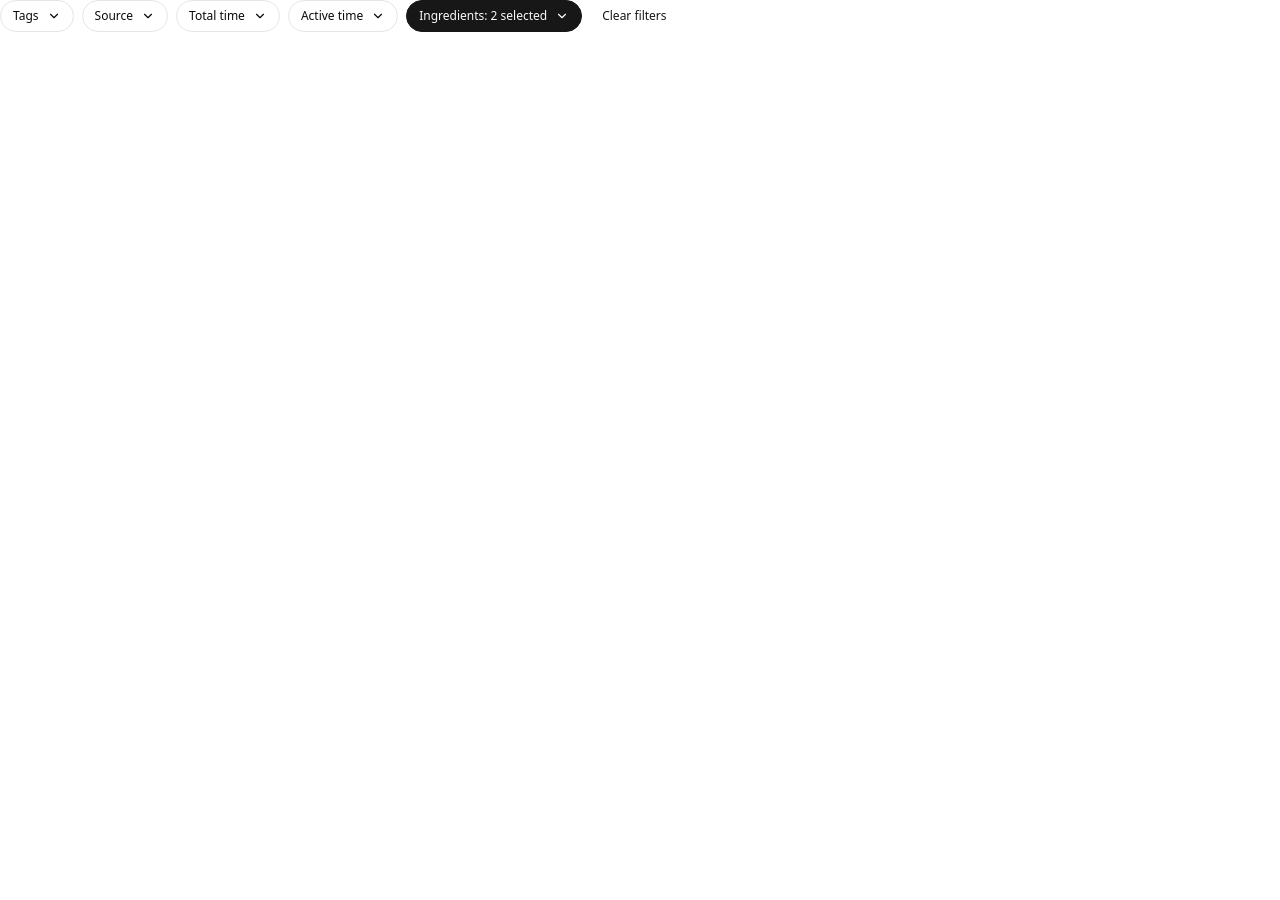
Test: RecipeFilterBar › lists picked ingredients above the search box
The image size is (1280, 900).
Click the button "Ingredients: 2 selected" at (494, 16), box [406, 0, 582, 32]
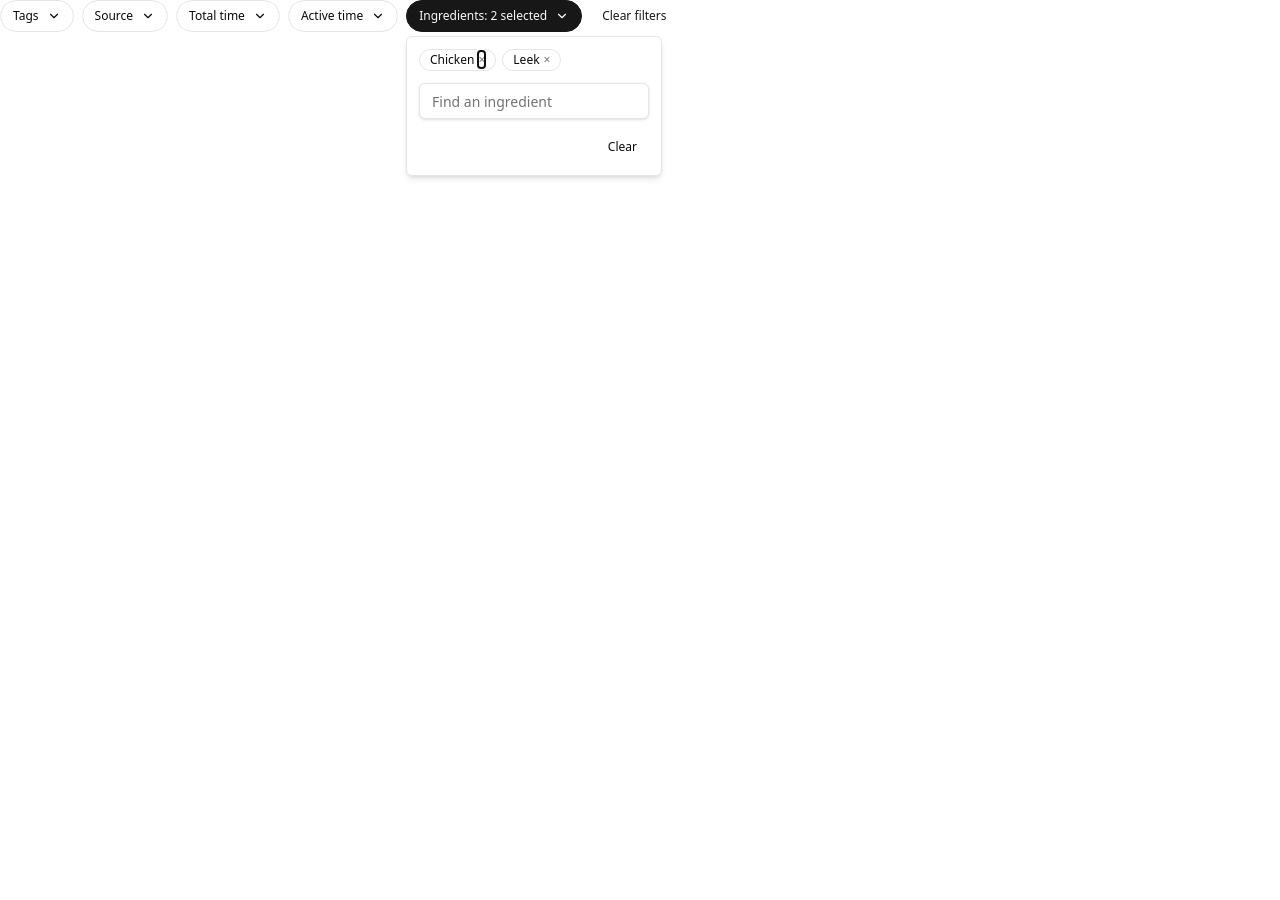
Result: the button named "Remove Chicken" is shown at [478, 52, 485, 68]
Result: the button named "Remove Leek" is shown at [544, 52, 550, 68]
